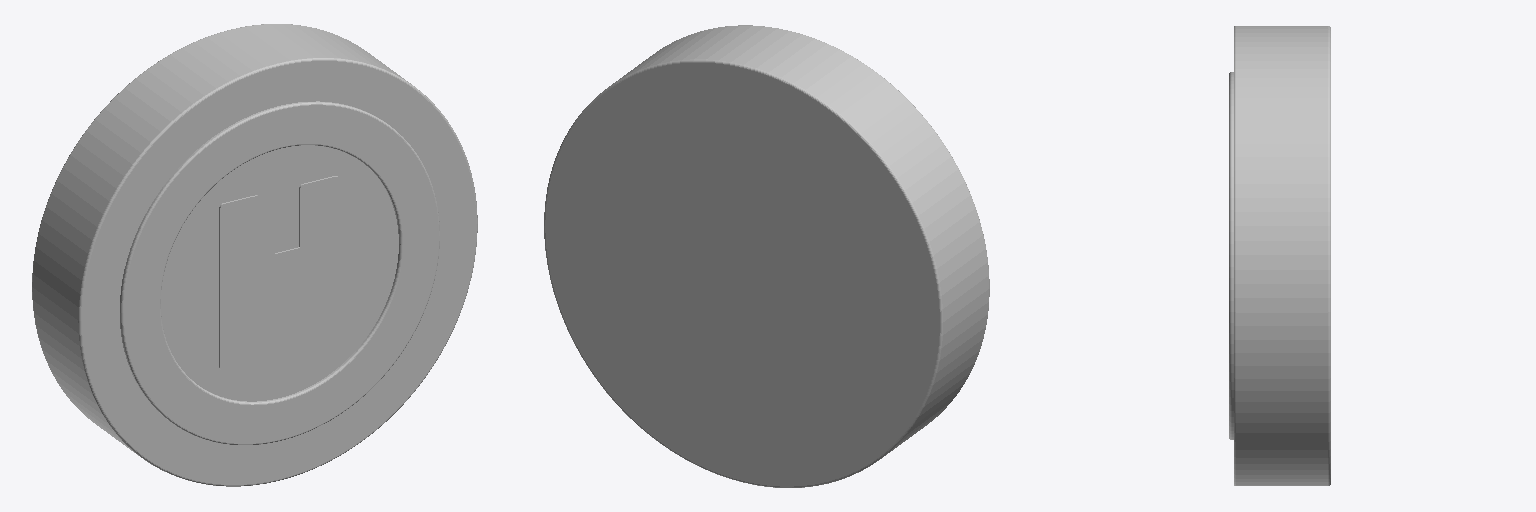
Rendered from tarmac.obj.
3 views of the same model, side by side, from view 1: azimuth 30°, elevation 25°; view 2: azimuth 150°, elevation 25°; view 3: azimuth 270°, elevation 25° (orthographic).
Parts seen in each view (by area): view 1: ???; view 2: ???; view 3: ???.
Part boxes in pixels (left/top/right/bottom): ???: left=32, top=24, right=477, bottom=486; ???: left=544, top=25, right=989, bottom=487; ???: left=1229, top=26, right=1330, bottom=485.
Bounding box in the file's own units: 20 × 20 × 4.41.